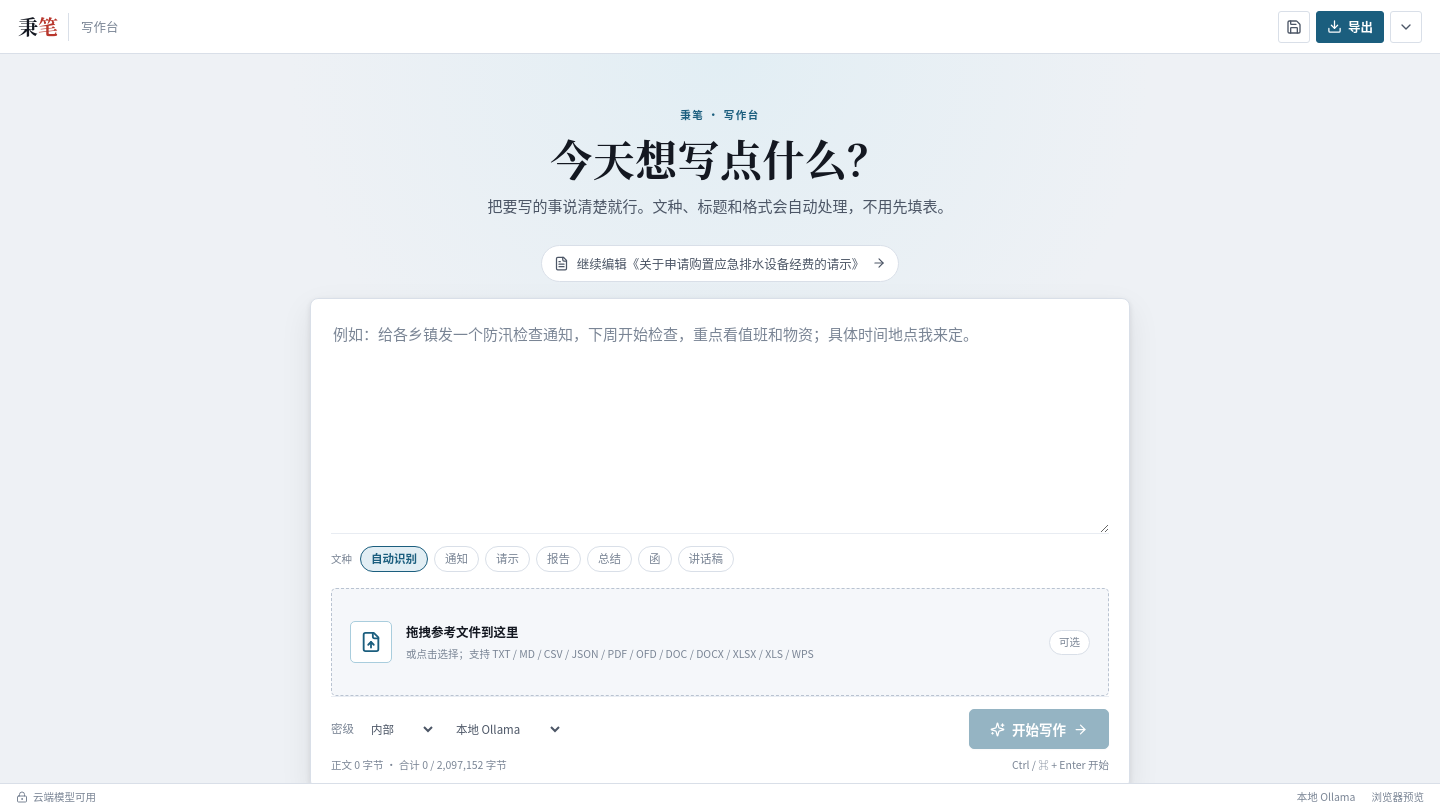
App writing desk › keeps optional document fields in a dialog
This screenshot has width=1440, height=810.
Click the button "继续编辑《关于申请购置应急排水设备经费的请示》" at coordinates (720, 264), box [541,245,899,282]
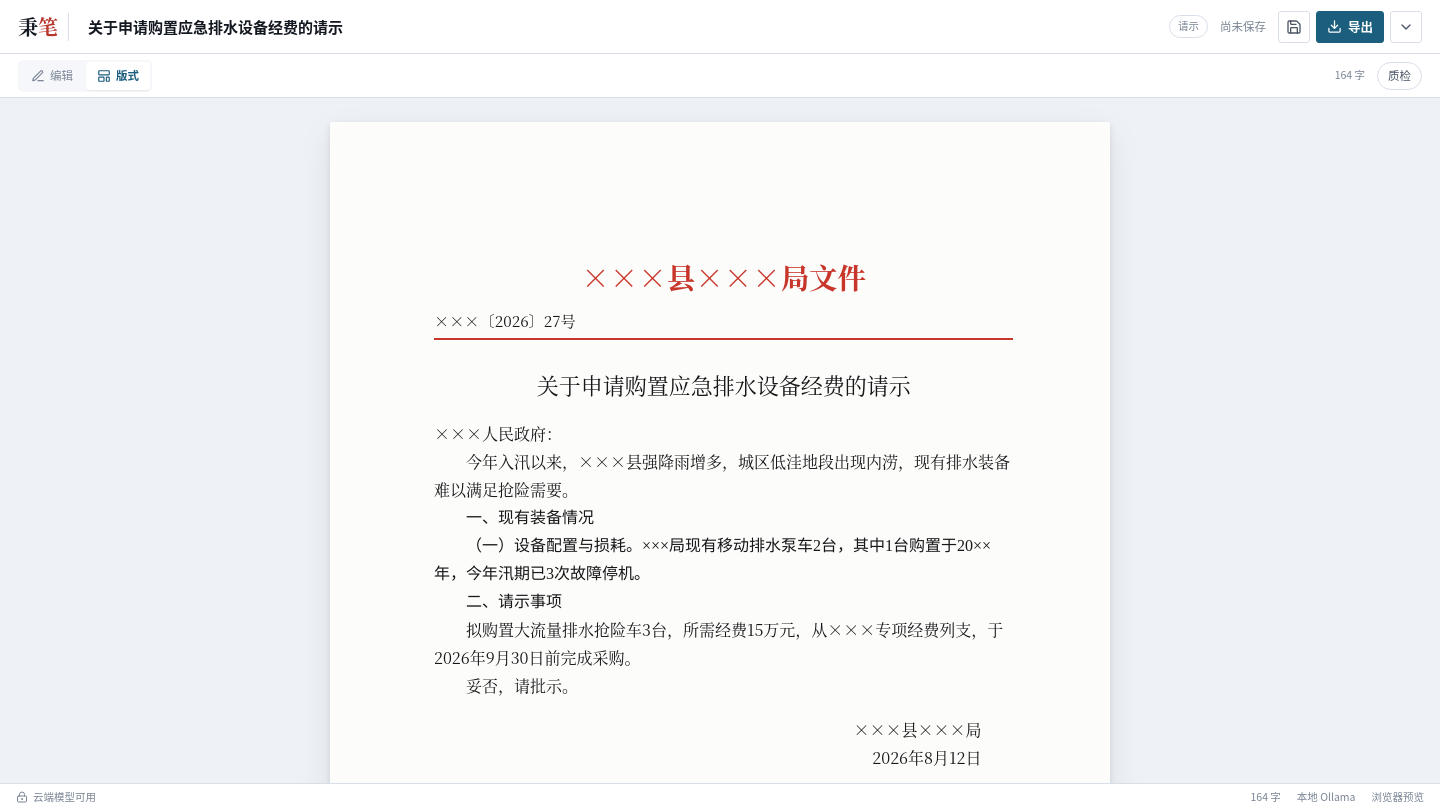
Click the button named "更多" at coordinates (1406, 26), box [1390,10,1422,42]
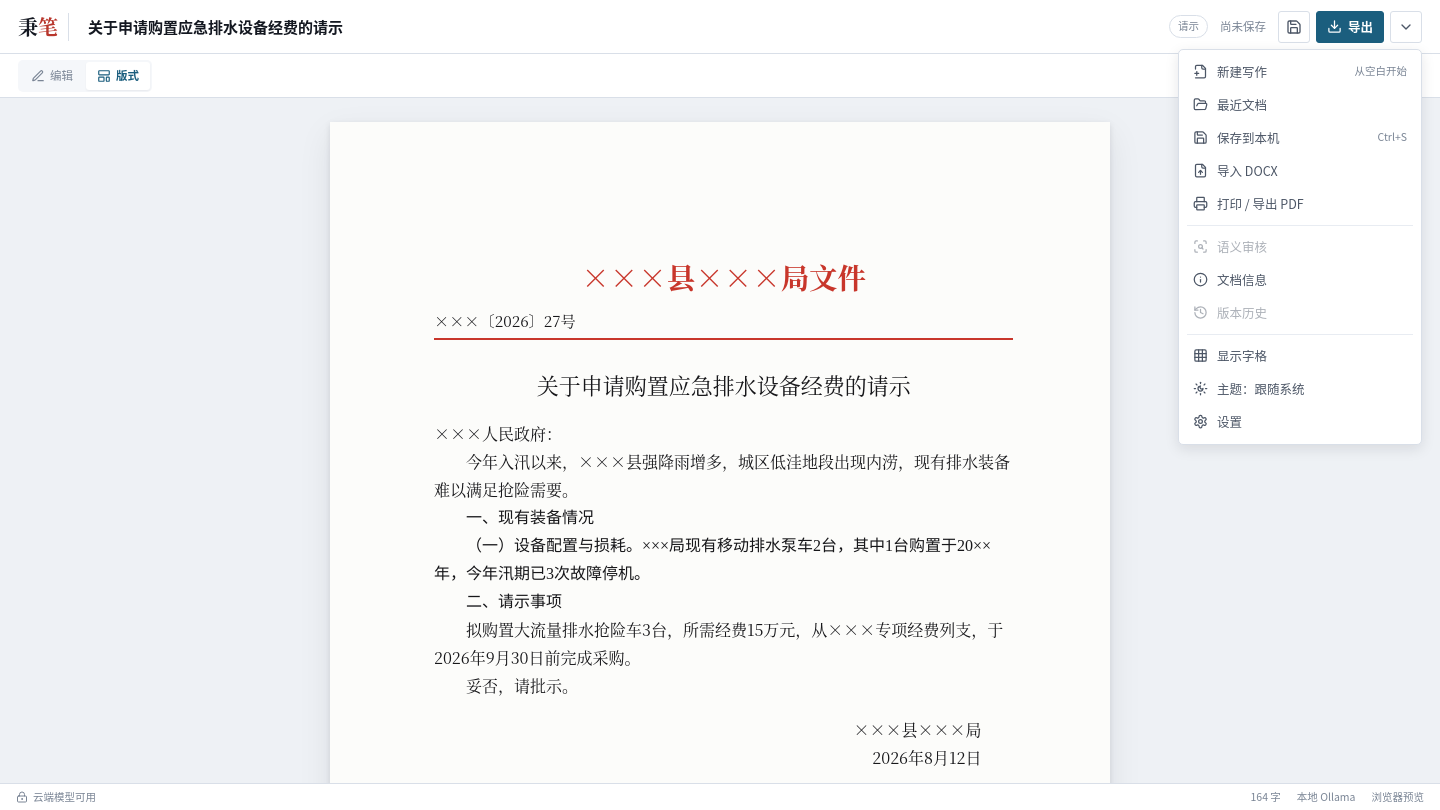
Click the menu item "文档信息" at coordinates (1300, 280), box [1185,264,1415,296]
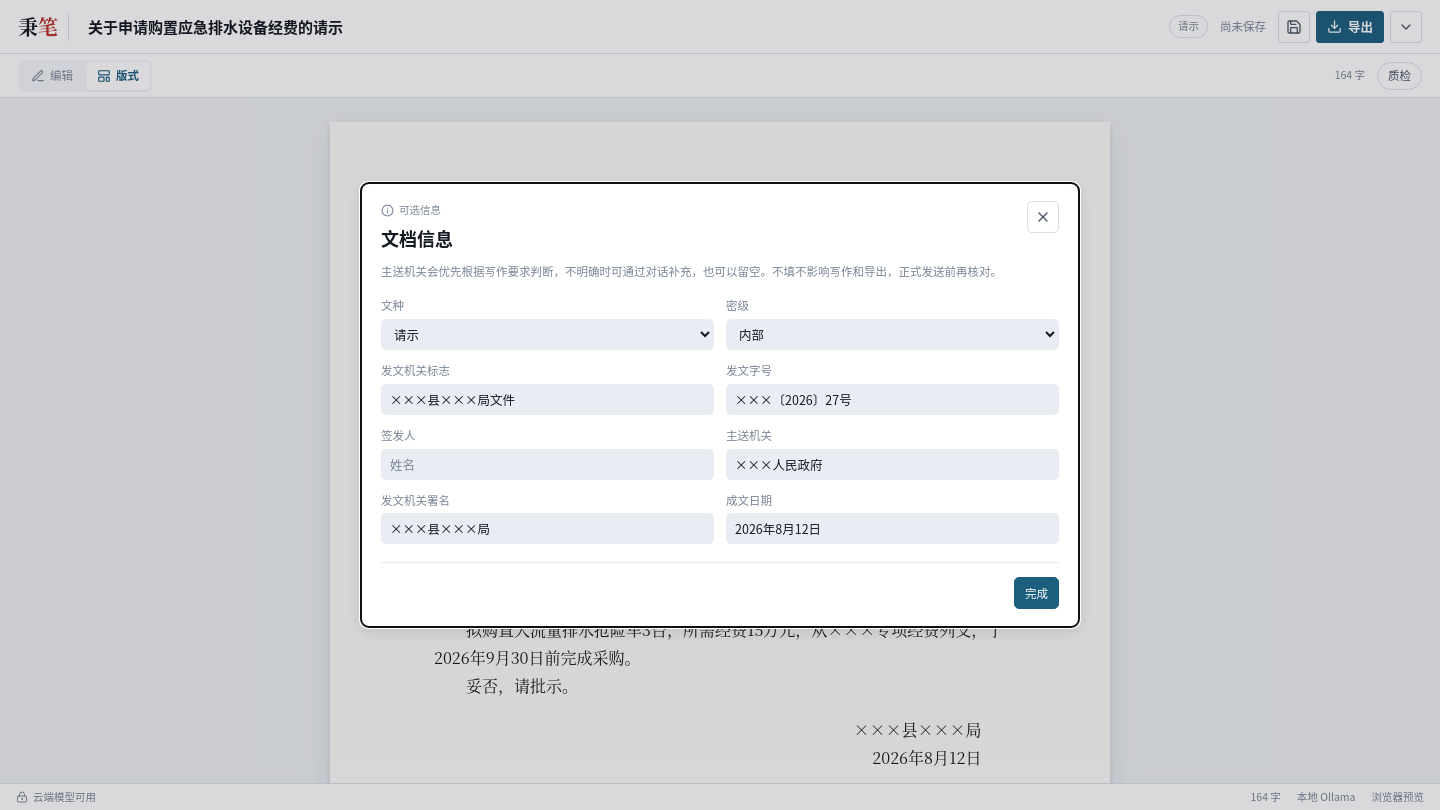
Check: the dialog "文档信息" is shown, box [360,182,1080,628]
Replace the text in the field labelled "发文字号" with "×政〔2026〕9号" at coordinates (892, 399), box [726,384,1059,415]
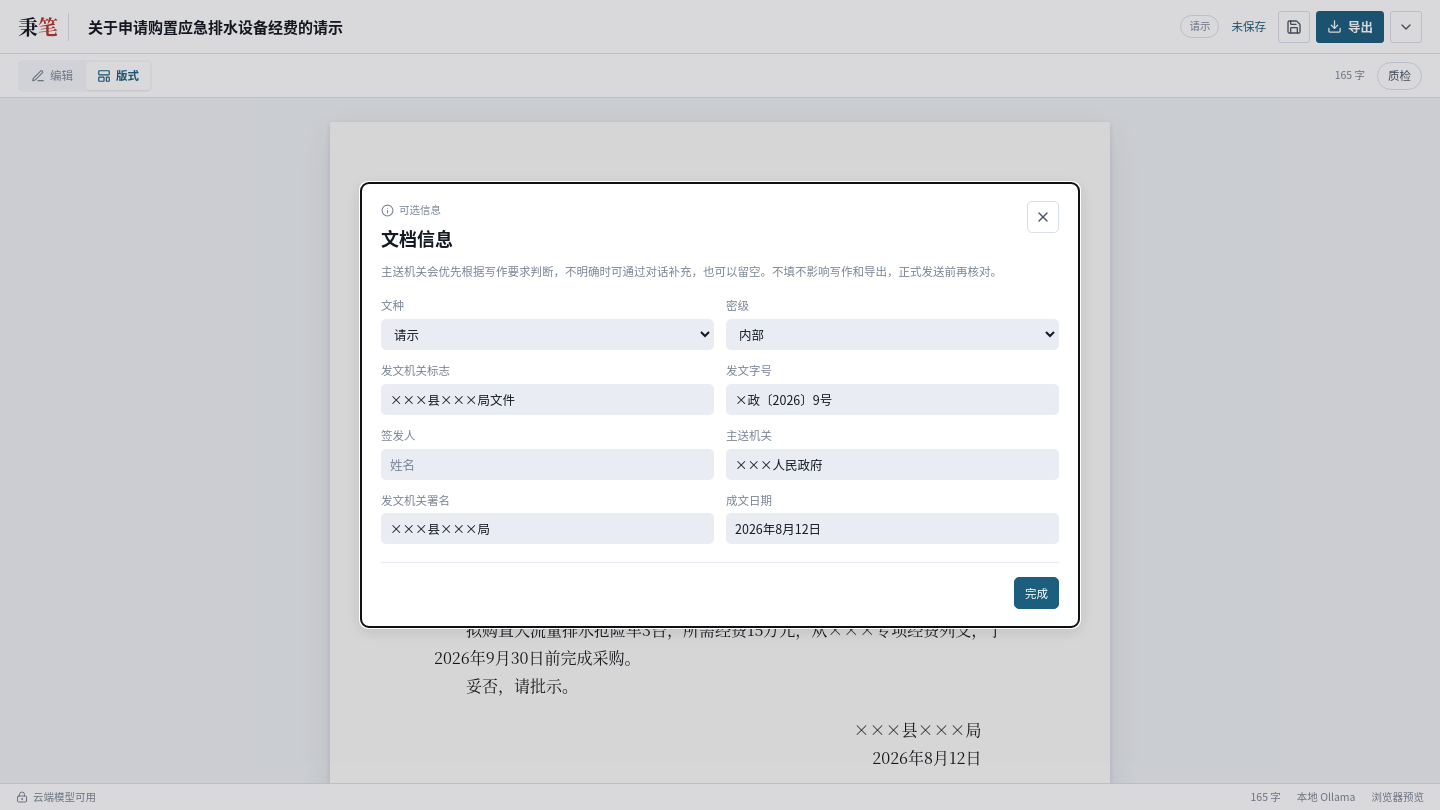
Click the button "完成" at coordinates (1036, 593), box [1014,577,1059,609]
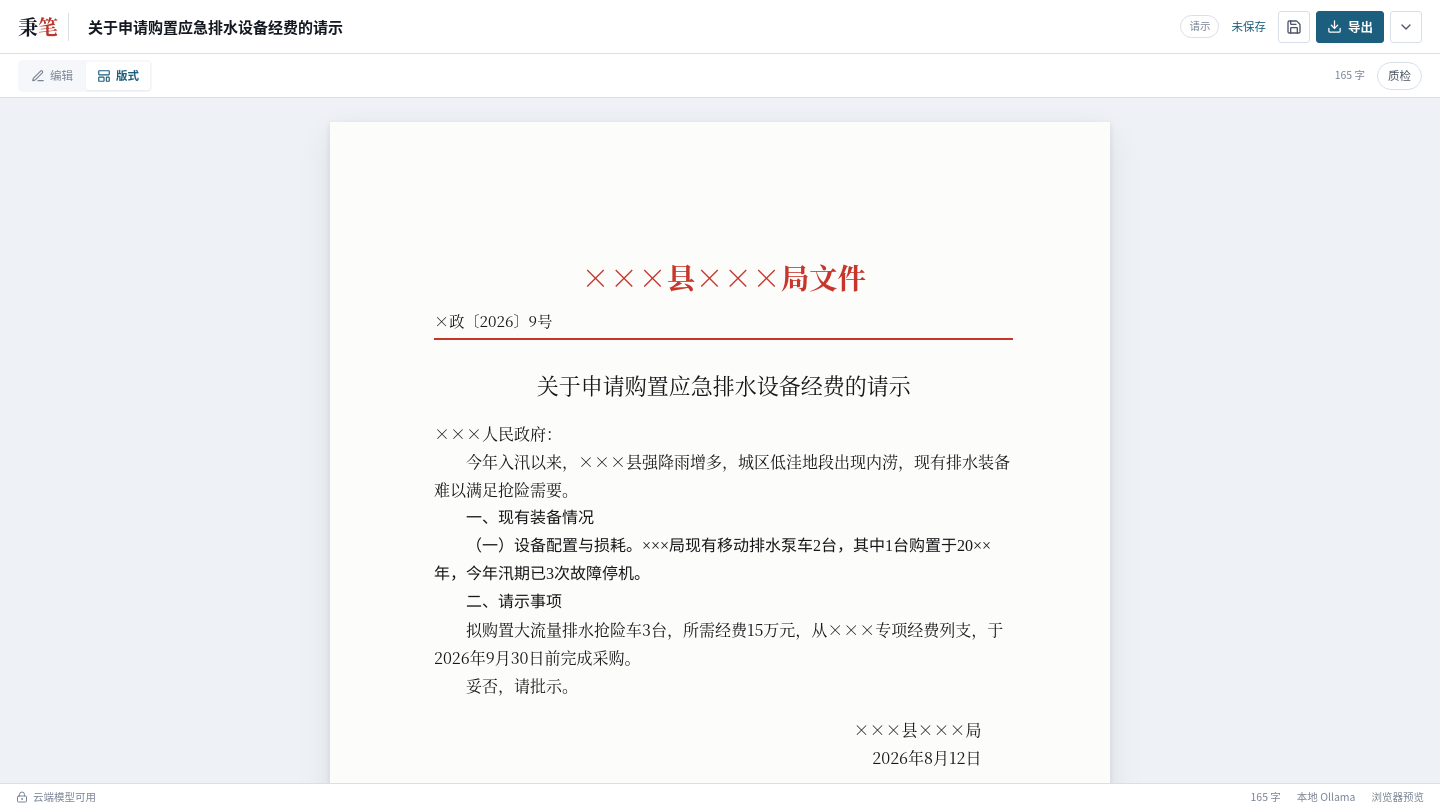
Check: the heading "文档信息" is gone
